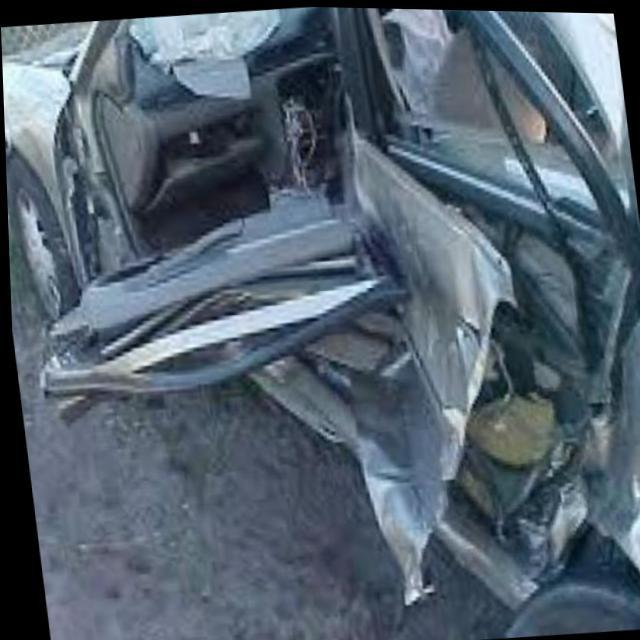crash: (31, 5, 640, 605)
